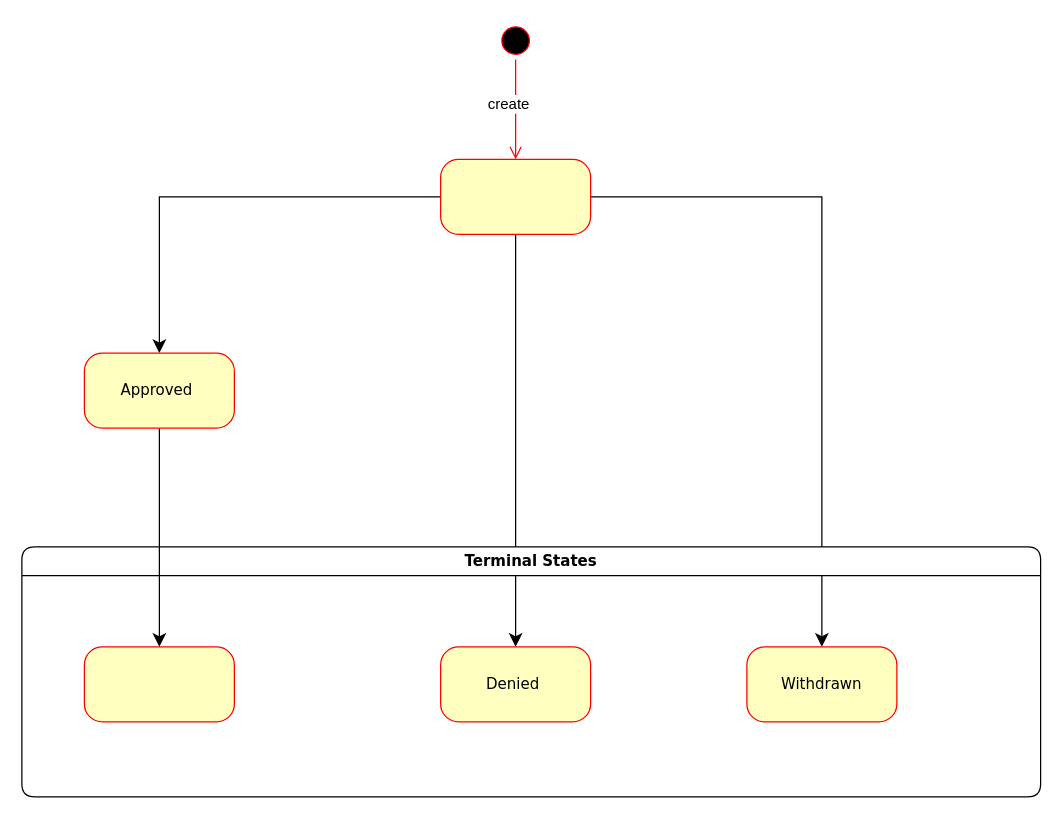
Some shapes in this 1063 by 819 pixel diagram are drawn without their labels. Each missing label, with the centre of its shape:
"Cancelled" goes at point (158, 684).
"Pending" goes at point (515, 196).
